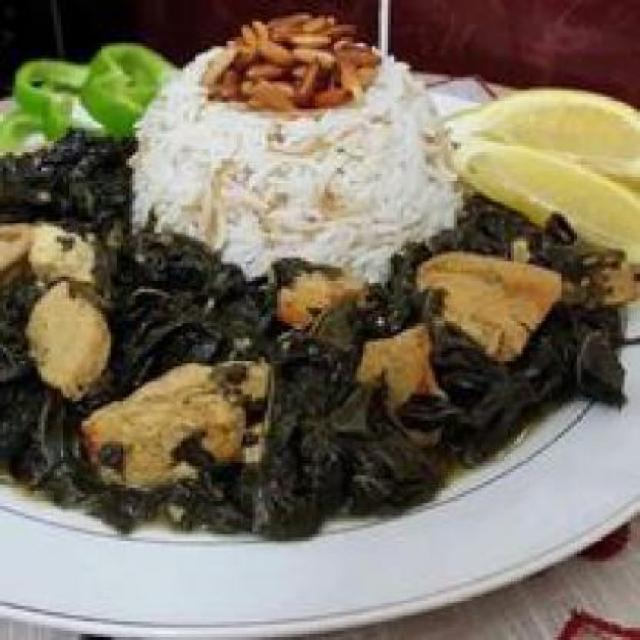fried rice: (123, 12, 448, 258)
